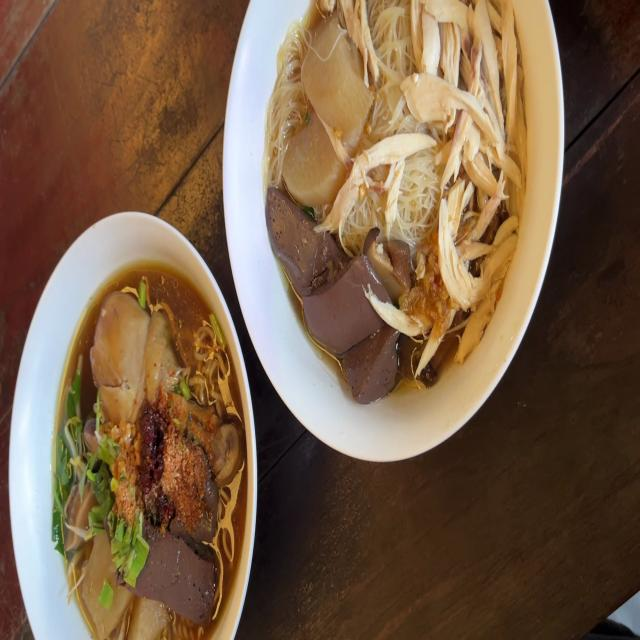noodle: (308, 252, 372, 356), (268, 188, 331, 286), (144, 538, 210, 620), (345, 331, 395, 404)
